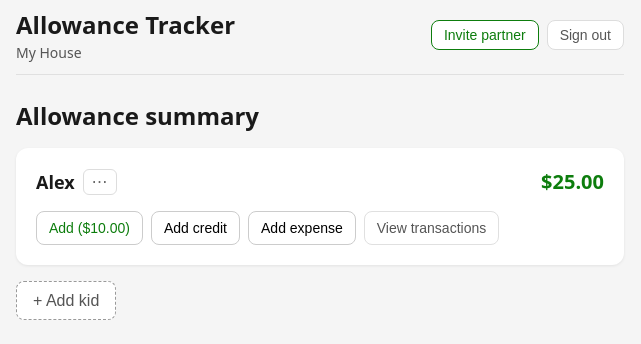
App › switches to add kid view when Add kid is clicked from Summary
Click the button "+ Add kid" at (66, 301), box left=16, top=281, right=116, bottom=320
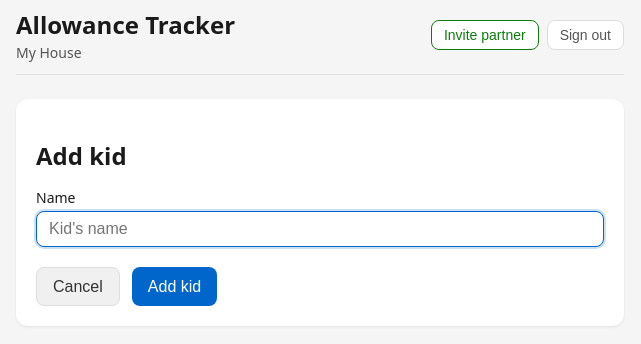
expect the field labelled "Name" is shown: met, box left=36, top=211, right=604, bottom=247
expect the button "Cancel" is shown: met, box left=36, top=267, right=120, bottom=306
